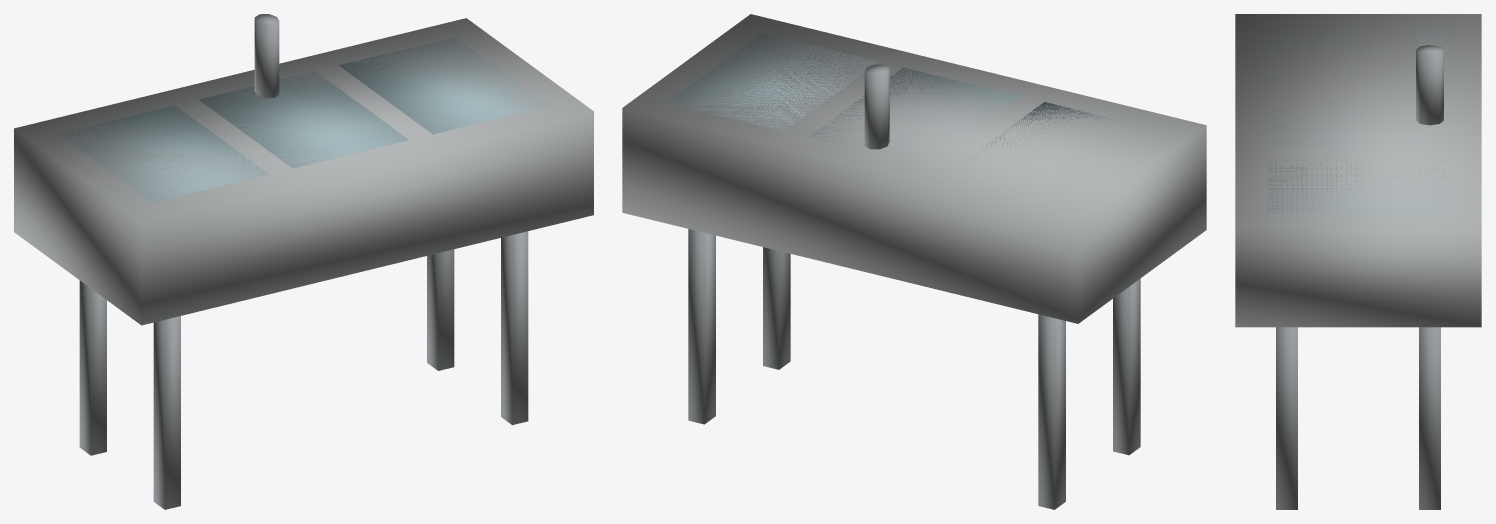
Rendered from three_bay_sink__deep.glb.
3 views of the same model, side by side, from view 1: azimuth 30°, elevation 25°; view 2: azimuth 150°, elevation 25°; view 3: azimuth 270°, elevation 25° (orthographic). The views are drawn at different scales.
Visible parts, largest first — view 1: world; view 2: world; view 3: world.
Part boxes in pixels (x1,y1,x2,y2): world: (14, 14, 593, 509); world: (622, 14, 1206, 509); world: (1235, 14, 1481, 509).
Bounding box in the file's own units: 1.55 × 1.27 × 0.7564.
